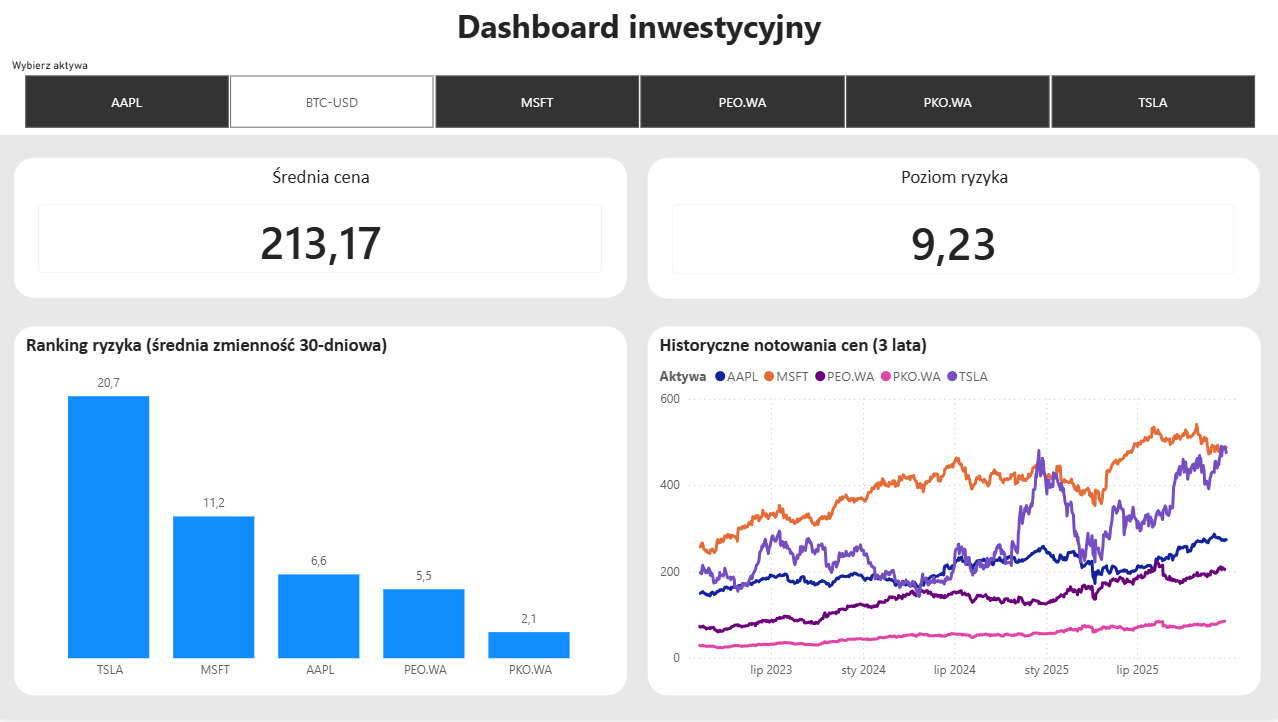

The page's visual inventory and layout, read from the dashboard file:
{"tool":"powerbi","page":{"name":"Strona 1","canvas":[1280,720],"ordinal":0},"visuals":[{"type":"lineChart","title":"Historyczne notowania cen (3 lata)","fields":{"Y":["Sum(market_data.Close_Price)"],"Series":["market_data.Ticker"],"Category":["market_data.Date"]},"box":[648.8,327.5,612.5,368.8],"z":0},{"type":"slicer","title":"Wybierz aktywa","fields":{"Values":["market_data.Ticker"]},"box":[0,54.8,1279.8,81],"z":1000},{"type":"columnChart","title":"Ranking ryzyka (średnia zmienność 30-dniowa)","fields":{"Category":["market_data.Ticker"],"Y":["Avg(market_data.Volatility_30d)"]},"box":[15,327.5,612.5,368.8],"z":2000},{"type":"textbox","box":[0,0,1280,55],"z":3000},{"type":"cardVisual","title":"Średnia cena","fields":{"Data":["Avg(market_data.Close_Price)"]},"box":[15,158.8,612.5,140],"z":4000},{"type":"cardVisual","title":"Poziom ryzyka","fields":{"Data":["Avg(market_data.Volatility_30d)"]},"box":[648.8,158.3,611.9,140.5],"z":5000}]}

Visuals, with their boxes in screenshot pixels (x1, y1, x2, y2), scaled from the page's 1280x720 canvas onto the 1278x722 screenshot:
"Historyczne notowania cen (3 lata)" lineChart: bbox(648, 328, 1259, 698)
"Wybierz aktywa" slicer: bbox(0, 55, 1277, 136)
"Ranking ryzyka (średnia zmienność 30-dniowa)" columnChart: bbox(15, 328, 627, 698)
textbox: bbox(0, 0, 1277, 55)
"Średnia cena" cardVisual: bbox(15, 159, 627, 300)
"Poziom ryzyka" cardVisual: bbox(648, 159, 1259, 300)
